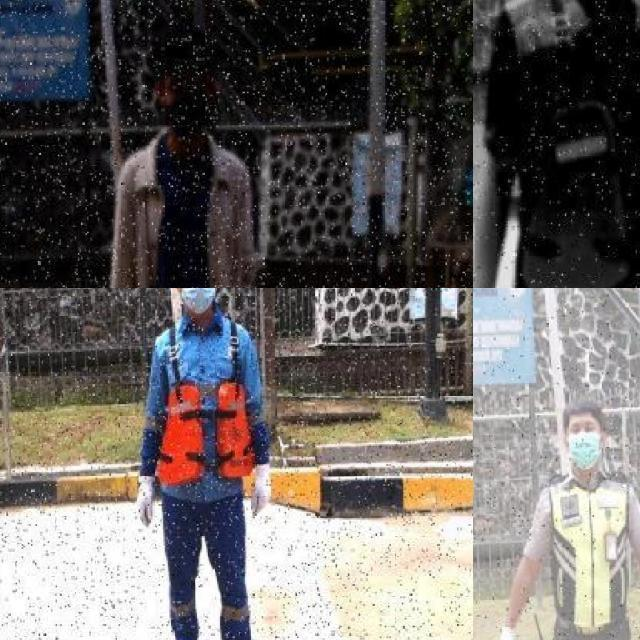apron: (247, 463, 275, 522), (134, 468, 160, 530), (494, 622, 519, 640)
